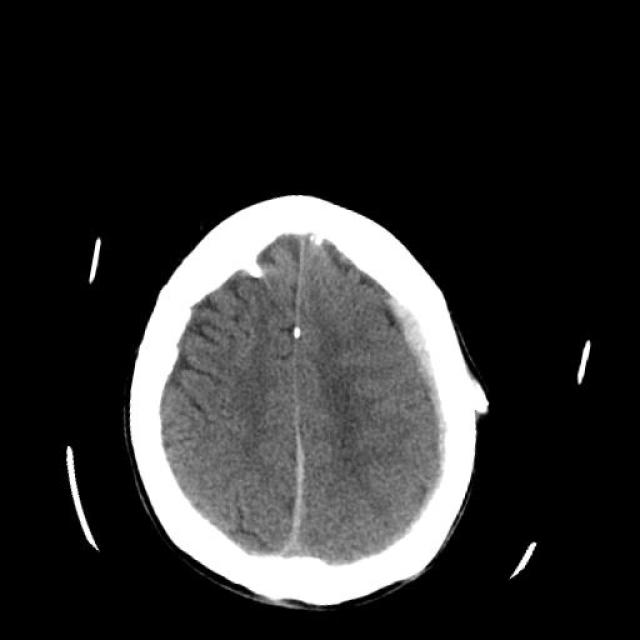Subdural: (342, 284, 503, 530)
